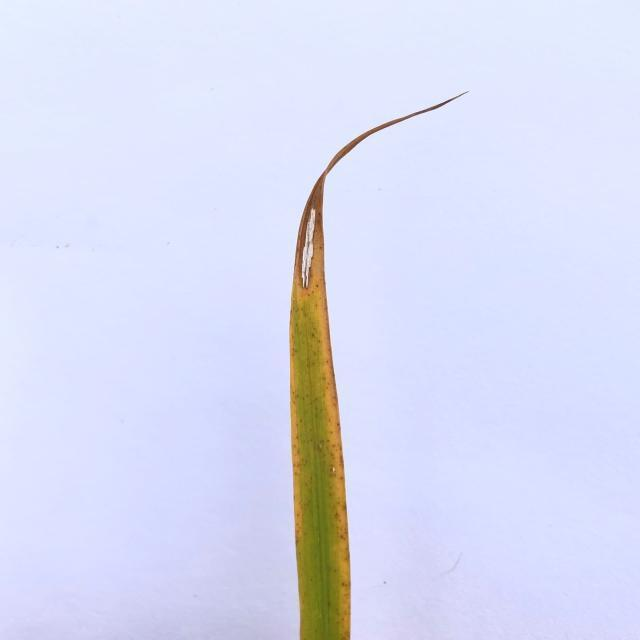Rice Tungro: (312, 232, 350, 537)
